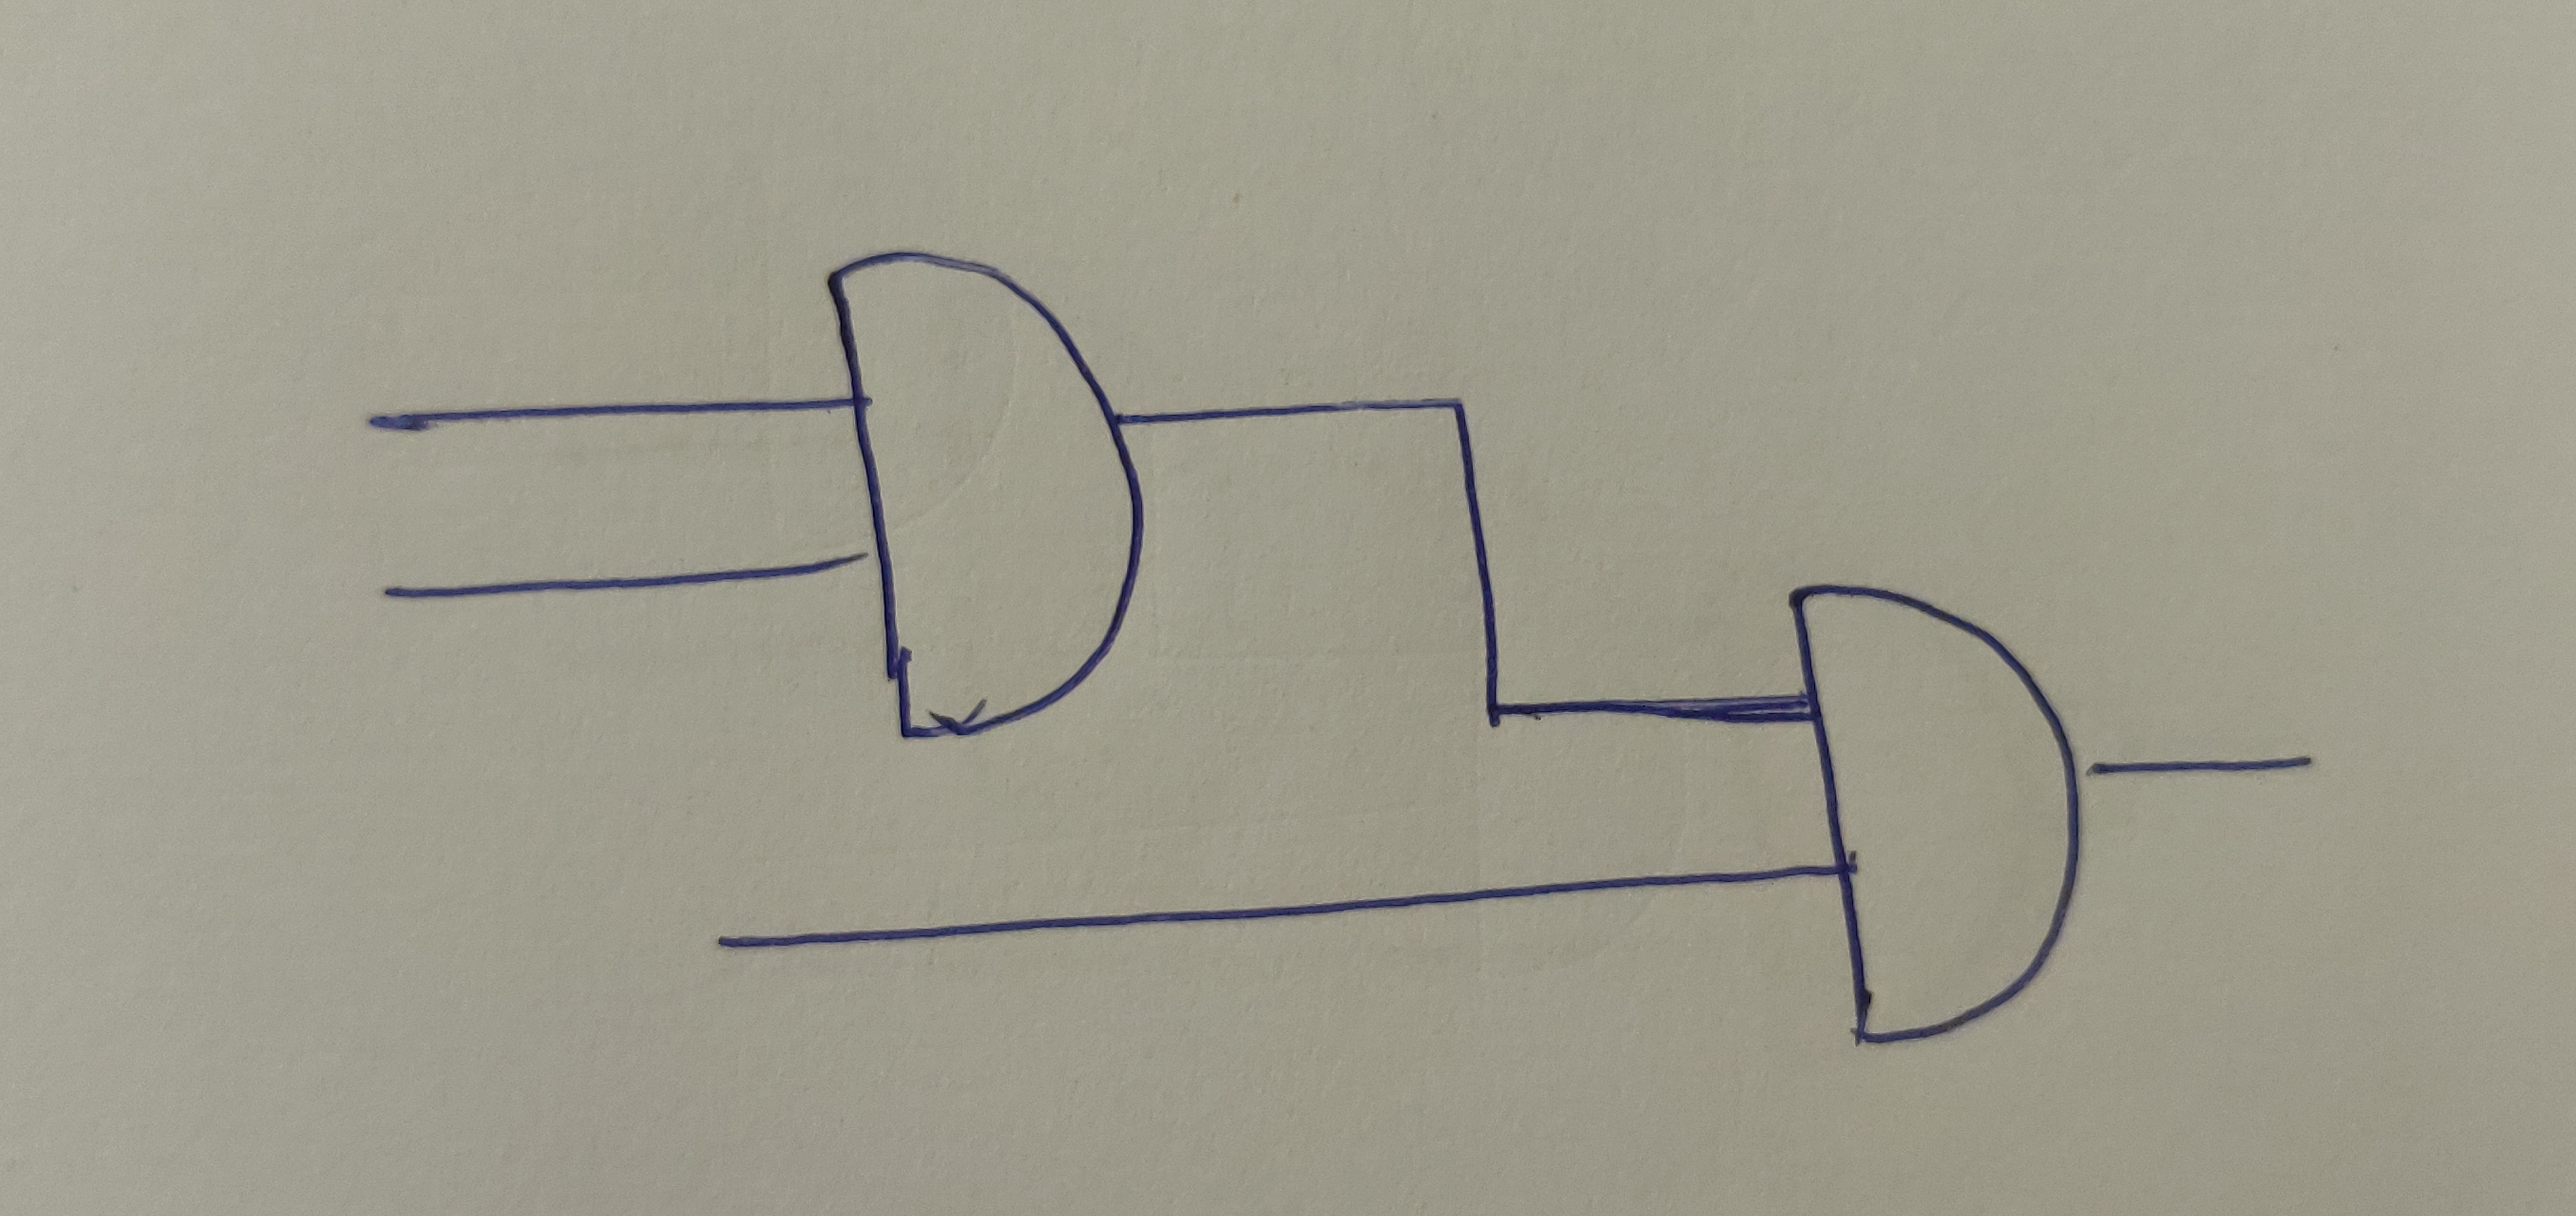and: (826, 253, 1150, 743), (1781, 582, 2085, 1047)
